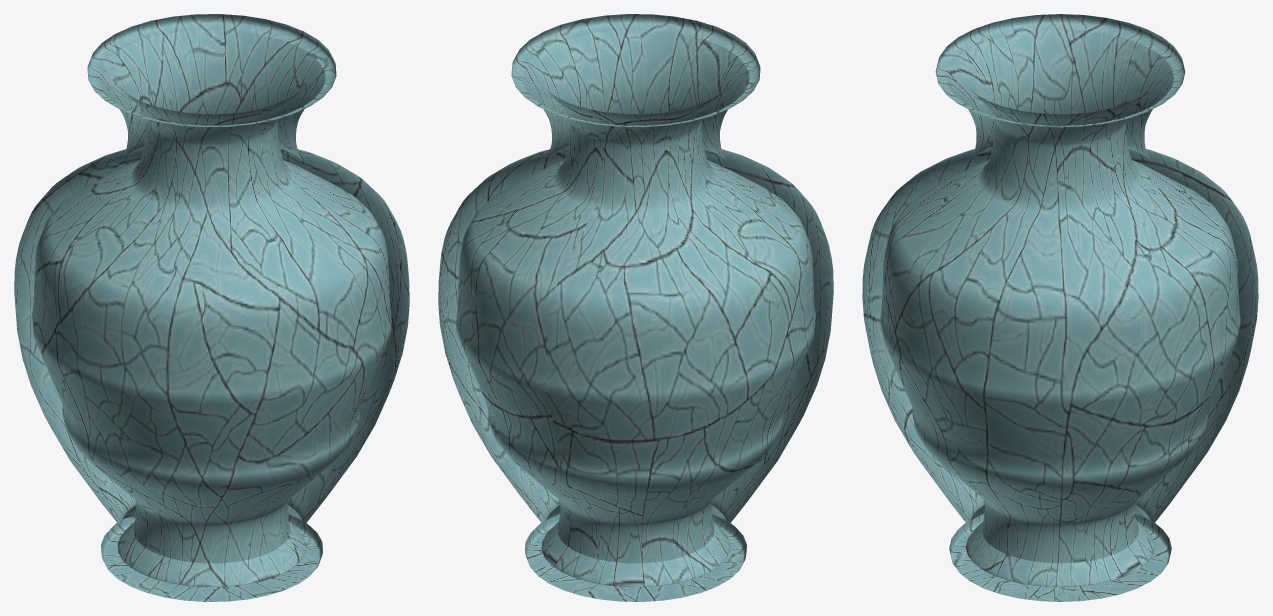
File: vase.glb
3 renders of one model, left to right at view 1: azimuth 30°, elevation 25°; view 2: azimuth 150°, elevation 25°; view 3: azimuth 270°, elevation 25°, orthographic.
Parts seen in each view (by area): view 1: 旋转; view 2: 旋转; view 3: 旋转.
Boxes of the visible parts, bbox=[...] form: 旋转: bbox=[14, 14, 409, 601]; 旋转: bbox=[438, 14, 833, 601]; 旋转: bbox=[862, 14, 1258, 601].
Bounding box in the file's own units: 507 × 694 × 507.
Materials: 1 (1 with a texture image).
